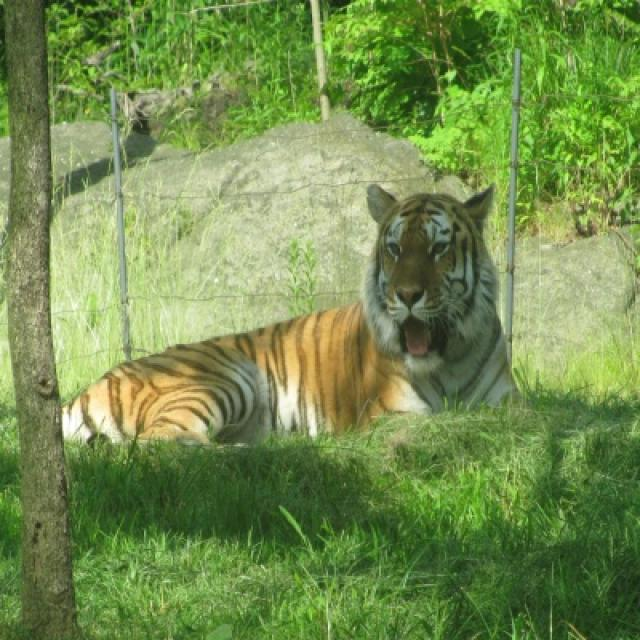Tiger: (68, 178, 518, 437)
